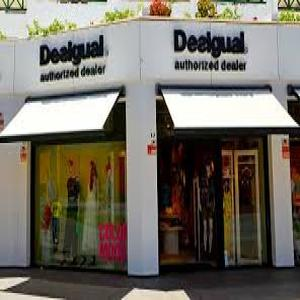desigual: (170, 26, 249, 59), (32, 33, 109, 66)
